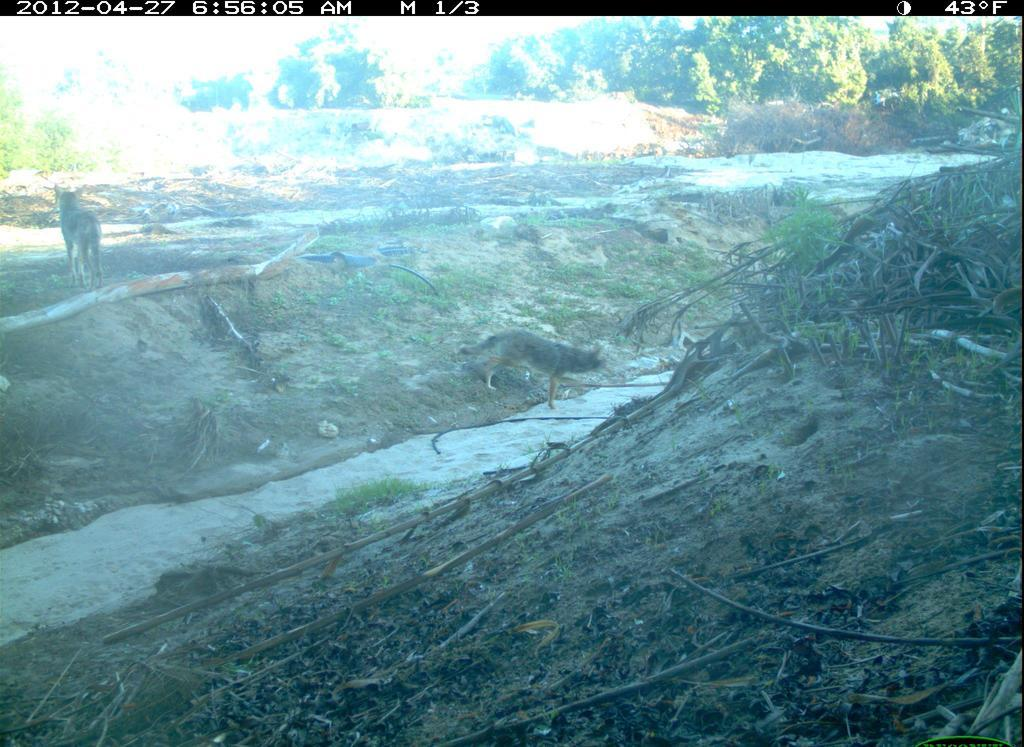coyote: (449, 326, 626, 415), (50, 181, 114, 294)
